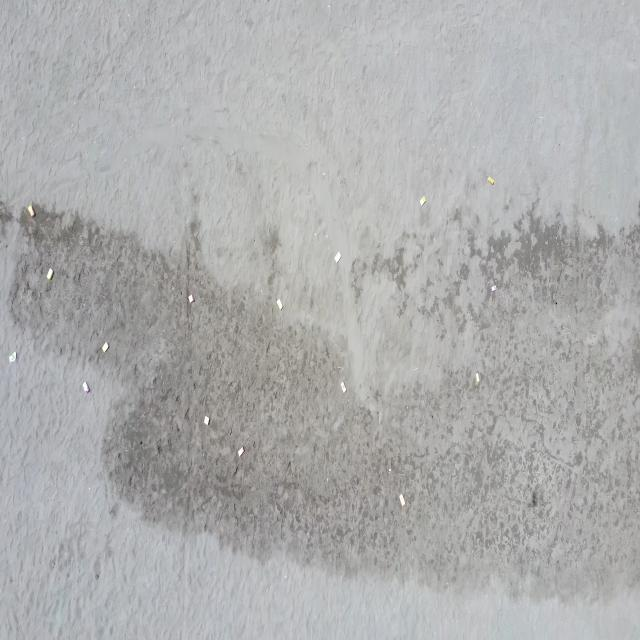retort-pouch: (339, 378, 347, 396), (275, 296, 284, 312), (8, 350, 18, 364), (28, 203, 36, 220), (187, 291, 196, 306), (46, 266, 54, 282), (398, 492, 406, 508), (101, 340, 109, 355), (419, 194, 427, 208), (334, 250, 341, 265), (238, 445, 245, 460), (83, 378, 89, 395), (488, 175, 495, 188), (203, 415, 211, 426), (491, 282, 497, 294), (475, 372, 480, 384)
